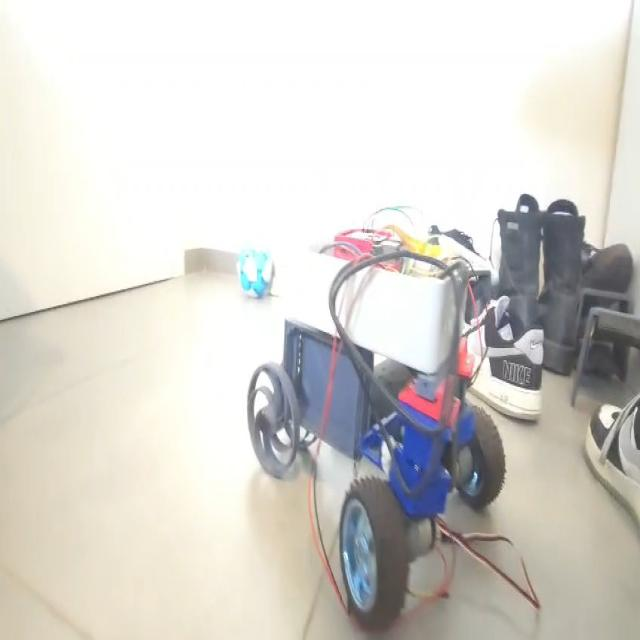Robot: (244, 198, 541, 640)
